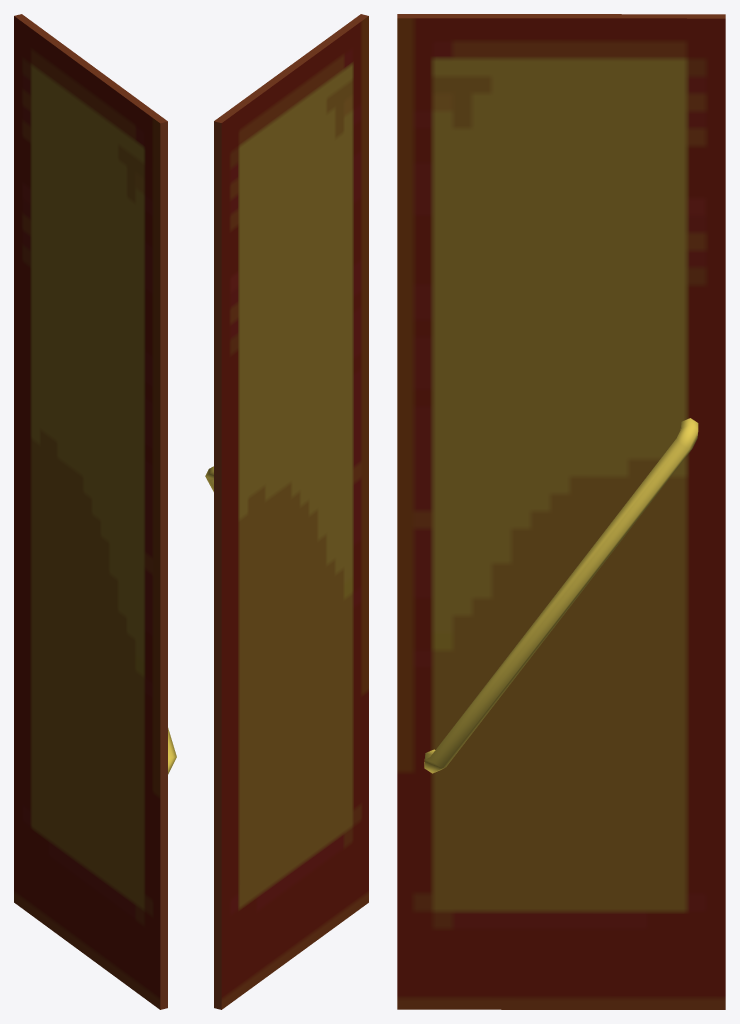
The model's file is door3.glb.
3 renders of one model, left to right at view 1: azimuth 30°, elevation 25°; view 2: azimuth 150°, elevation 25°; view 3: azimuth 270°, elevation 25°, orthographic. The views are drawn at different scales.
Visible parts, largest first — view 1: Object_82; view 2: Object_82; view 3: Object_82.
Boxes of the visible parts, left/top/right/bottom form: Object_82: left=14, top=14, right=176, bottom=1009; Object_82: left=205, top=14, right=368, bottom=1009; Object_82: left=397, top=14, right=725, bottom=1009.
Size of the model in its own units: 0.1202 by 3.04 by 0.9121.
Materials: 1 (1 with a texture image).
